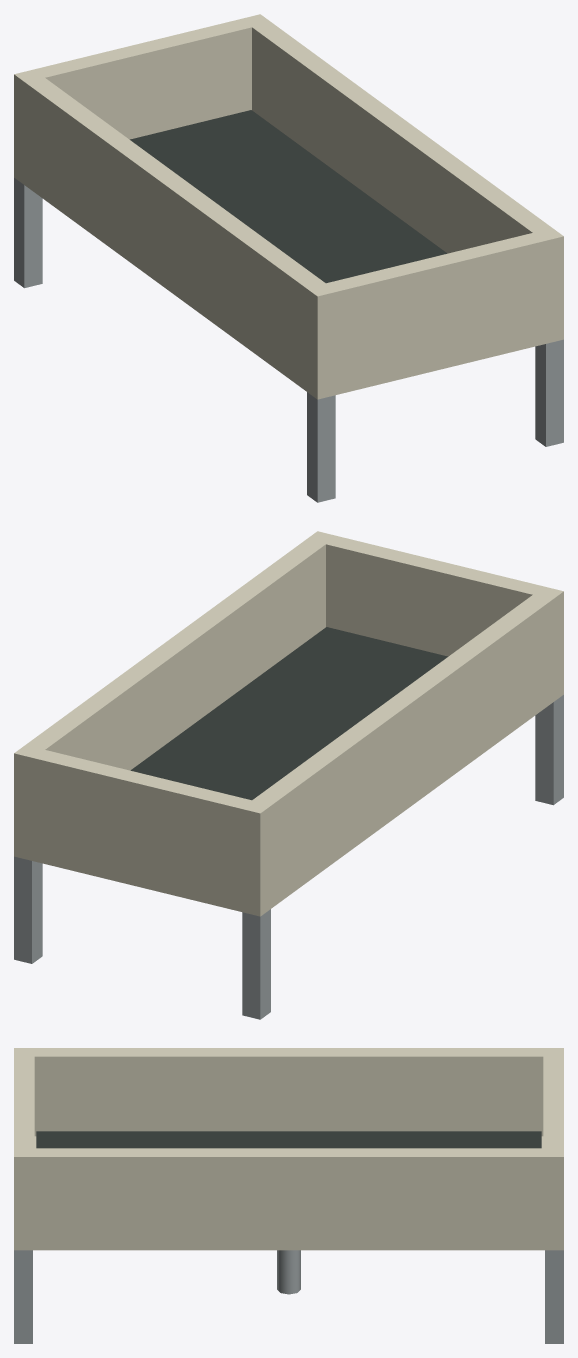
File: Bathtub.glb
3 renders of one model, top to bottom at view 1: azimuth 30°, elevation 25°; view 2: azimuth 150°, elevation 25°; view 3: azimuth 270°, elevation 25°, orthographic. The views are drawn at different scales.
Parts seen in each view (by area): view 1: bathroom-bathtub; view 2: bathroom-bathtub; view 3: bathroom-bathtub.
Boxes of the visible parts, left/top/right/bottom form: bathroom-bathtub: left=14, top=14, right=563, bottom=502; bathroom-bathtub: left=14, top=531, right=563, bottom=1019; bathroom-bathtub: left=14, top=1048, right=563, bottom=1343.
Bounding box in the file's own units: 0.7501 × 0.6 × 1.6.
